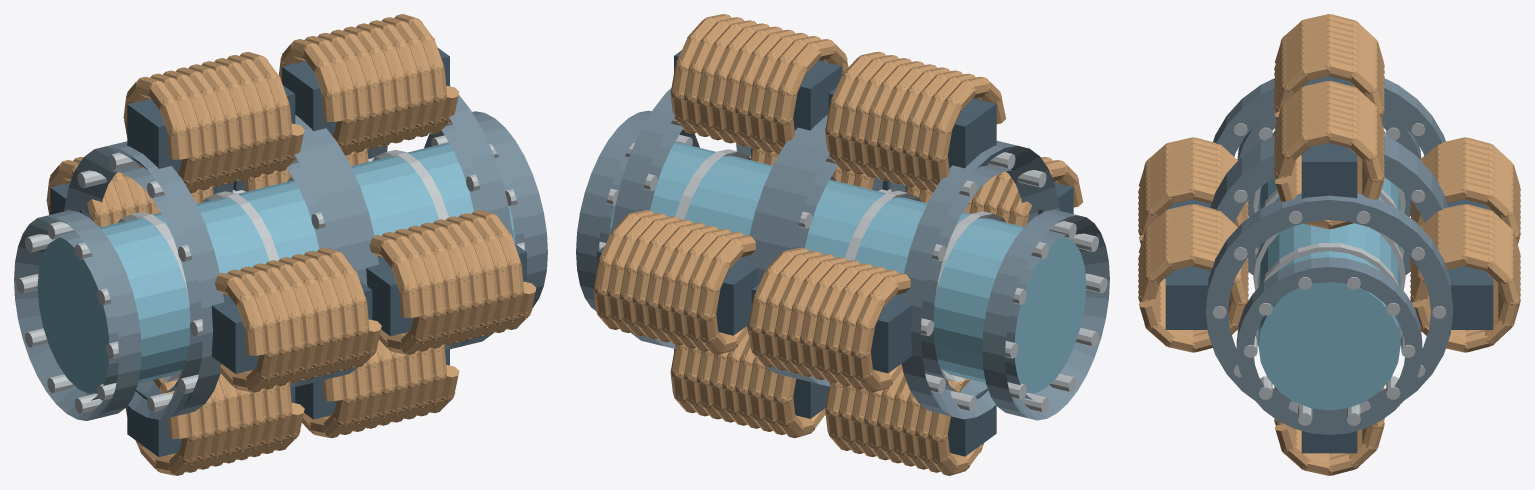
The model's file is 13_L75_QuadrupoleBeamFocusingLens.glb.
3 renders of one model, left to right at view 1: azimuth 30°, elevation 25°; view 2: azimuth 150°, elevation 25°; view 3: azimuth 270°, elevation 25°, orthographic. The views are drawn at different scales.
Parts seen in each view (by area): view 1: QuadrupoleBeamFocusingLens_Node_0000, QuadrupoleBeamFocusingLens_Node_0891, QuadrupoleBeamFocusingLens_Node_0001, QuadrupoleBeamFocusingLens_Node_0012, QuadrupoleBeamFocusingLens_Node_1788, QuadrupoleBeamFocusingLens_Node_0902, QuadrupoleBeamFocusingLens_Node_1777, QuadrupoleBeamFocusingLens_Node_0458, QuadrupoleBeamFocusingLens_Node_0242, QuadrupoleBeamFocusingLens_Node_1128, QuadrupoleBeamFocusingLens_Node_1344, QuadrupoleBeamFocusingLens_Node_0890 (+5 smaller); view 2: QuadrupoleBeamFocusingLens_Node_0000, QuadrupoleBeamFocusingLens_Node_0891, QuadrupoleBeamFocusingLens_Node_0001, QuadrupoleBeamFocusingLens_Node_0012, QuadrupoleBeamFocusingLens_Node_1788, QuadrupoleBeamFocusingLens_Node_0902, QuadrupoleBeamFocusingLens_Node_1777, QuadrupoleBeamFocusingLens_Node_0458, QuadrupoleBeamFocusingLens_Node_0674, QuadrupoleBeamFocusingLens_Node_1560, QuadrupoleBeamFocusingLens_Node_1344, QuadrupoleBeamFocusingLens_Node_0890 (+4 smaller); view 3: QuadrupoleBeamFocusingLens_Node_0000, QuadrupoleBeamFocusingLens_Node_1788, QuadrupoleBeamFocusingLens_Node_0012, QuadrupoleBeamFocusingLens_Node_0891, QuadrupoleBeamFocusingLens_Node_1777, QuadrupoleBeamFocusingLens_Node_1344, QuadrupoleBeamFocusingLens_Node_1128, QuadrupoleBeamFocusingLens_Node_1560, QuadrupoleBeamFocusingLens_Node_0001, QuadrupoleBeamFocusingLens_Node_0902, QuadrupoleBeamFocusingLens_Node_0026, QuadrupoleBeamFocusingLens_Node_1776 (+14 smaller).
Boxes of the visible parts, box(x1,y1,x2,y2) form: QuadrupoleBeamFocusingLens_Node_0000: box(37, 142, 515, 393); QuadrupoleBeamFocusingLens_Node_0891: box(64, 141, 224, 419); QuadrupoleBeamFocusingLens_Node_0001: box(14, 210, 141, 420); QuadrupoleBeamFocusingLens_Node_0012: box(424, 111, 547, 308); QuadrupoleBeamFocusingLens_Node_1788: box(373, 86, 512, 349); QuadrupoleBeamFocusingLens_Node_0902: box(218, 133, 358, 387); QuadrupoleBeamFocusingLens_Node_1777: box(232, 115, 378, 379); QuadrupoleBeamFocusingLens_Node_0458: box(127, 85, 295, 172); QuadrupoleBeamFocusingLens_Node_0242: box(211, 281, 372, 373); QuadrupoleBeamFocusingLens_Node_1128: box(366, 243, 526, 336); QuadrupoleBeamFocusingLens_Node_1344: box(282, 47, 449, 134); QuadrupoleBeamFocusingLens_Node_0890: box(127, 387, 295, 456); QuadrupoleBeamFocusingLens_Node_0000: box(609, 142, 1086, 393); QuadrupoleBeamFocusingLens_Node_0891: box(899, 140, 1059, 419); QuadrupoleBeamFocusingLens_Node_0001: box(982, 209, 1109, 420); QuadrupoleBeamFocusingLens_Node_0012: box(576, 110, 699, 310); QuadrupoleBeamFocusingLens_Node_1788: box(611, 88, 750, 348); QuadrupoleBeamFocusingLens_Node_0902: box(766, 128, 905, 386); QuadrupoleBeamFocusingLens_Node_1777: box(745, 115, 891, 378); QuadrupoleBeamFocusingLens_Node_0458: box(828, 88, 996, 168); QuadrupoleBeamFocusingLens_Node_0674: box(751, 284, 912, 373); QuadrupoleBeamFocusingLens_Node_1560: box(597, 246, 757, 335); QuadrupoleBeamFocusingLens_Node_1344: box(674, 50, 841, 130); QuadrupoleBeamFocusingLens_Node_0890: box(828, 386, 996, 456); QuadrupoleBeamFocusingLens_Node_0000: box(1258, 130, 1400, 410); QuadrupoleBeamFocusingLens_Node_1788: box(1205, 193, 1453, 419); QuadrupoleBeamFocusingLens_Node_0012: box(1236, 257, 1422, 434); QuadrupoleBeamFocusingLens_Node_0891: box(1213, 78, 1445, 274); QuadrupoleBeamFocusingLens_Node_1777: box(1213, 145, 1445, 345); QuadrupoleBeamFocusingLens_Node_1344: box(1301, 143, 1357, 198); QuadrupoleBeamFocusingLens_Node_1128: box(1165, 266, 1210, 329); QuadrupoleBeamFocusingLens_Node_1560: box(1447, 266, 1493, 329); QuadrupoleBeamFocusingLens_Node_0001: box(1237, 110, 1421, 216); QuadrupoleBeamFocusingLens_Node_0902: box(1210, 136, 1448, 302); QuadrupoleBeamFocusingLens_Node_0026: box(1256, 243, 1402, 337); QuadrupoleBeamFocusingLens_Node_1776: box(1301, 431, 1357, 453).
Bounding box in the file's own units: 1.42 × 1.24 × 1.24.
